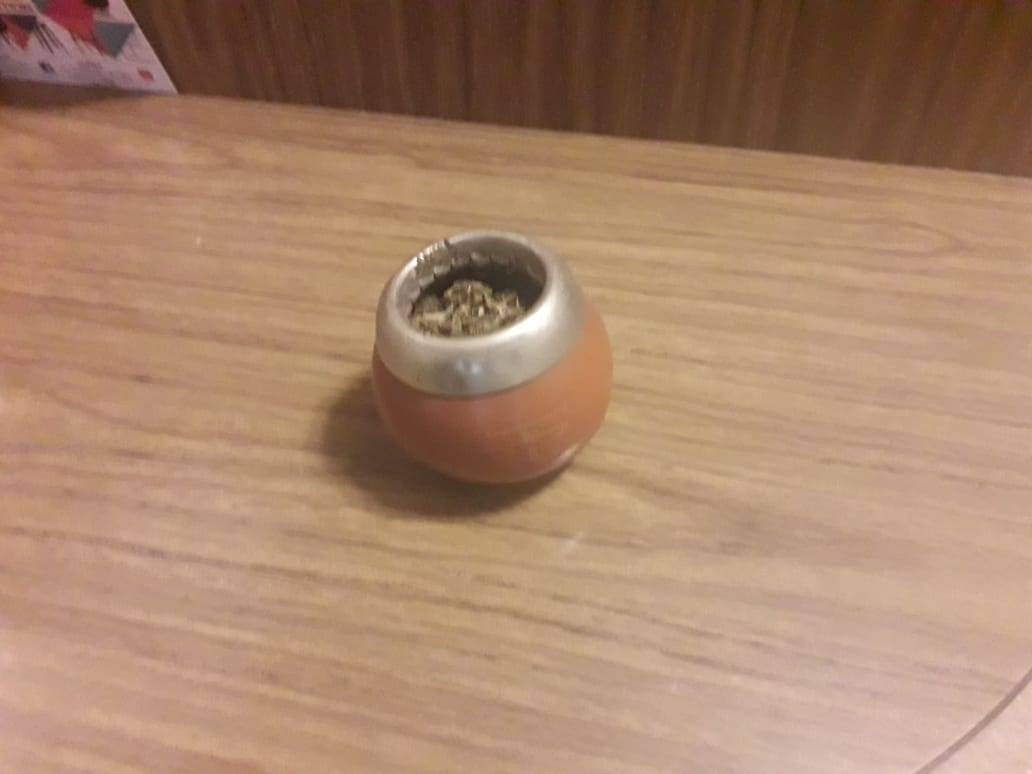calabaza: (362, 223, 617, 492)
mate: (364, 225, 619, 494)
